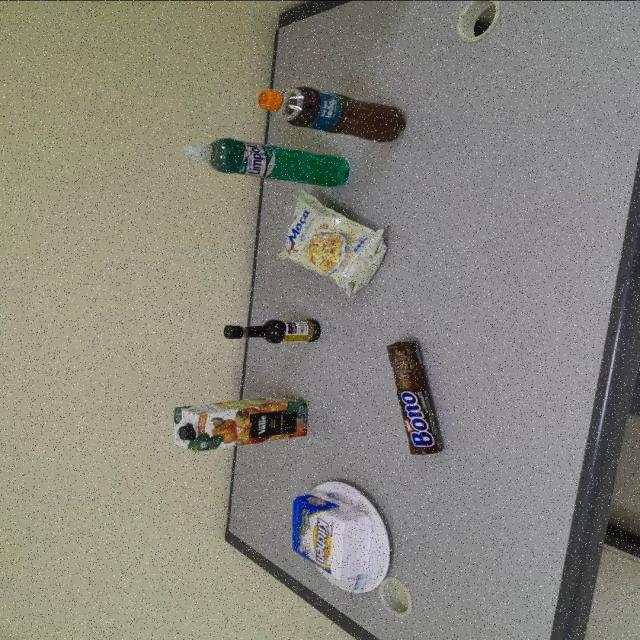Cleaner: (185, 135, 348, 186)
Cookies: (389, 338, 448, 453)
CornFlakes: (276, 191, 394, 297)
EnglishSauce: (224, 318, 324, 345)
IceTea: (258, 86, 406, 140)
